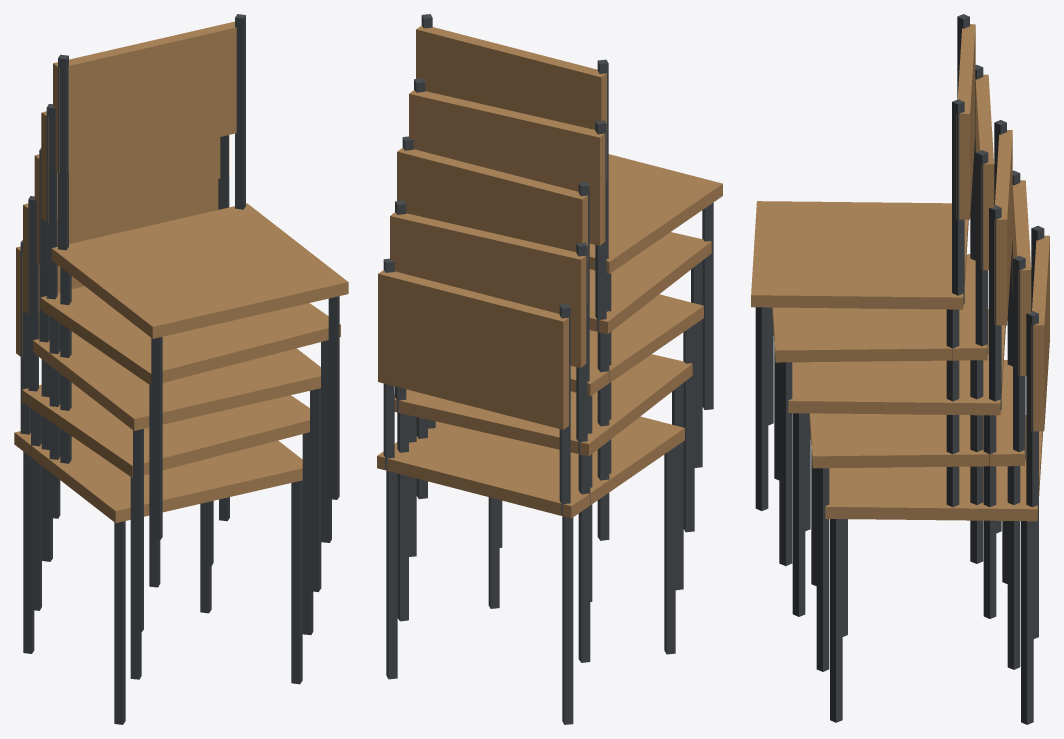
File: stacked_chairs.glb
The picture shows the model from 3 angles, left to right: view 1: azimuth 30°, elevation 25°; view 2: azimuth 150°, elevation 25°; view 3: azimuth 270°, elevation 25°; orthographic projection. The views are drawn at different scales.
Visible parts, largest first — view 1: ChairStack; view 2: ChairStack; view 3: ChairStack.
Part boxes in pixels (bbox=[...]): ChairStack: bbox=[14, 14, 348, 724]; ChairStack: bbox=[377, 14, 722, 724]; ChairStack: bbox=[751, 14, 1049, 724].
Bounding box in the file's own units: 0.4303 × 1.29 × 0.5631.
